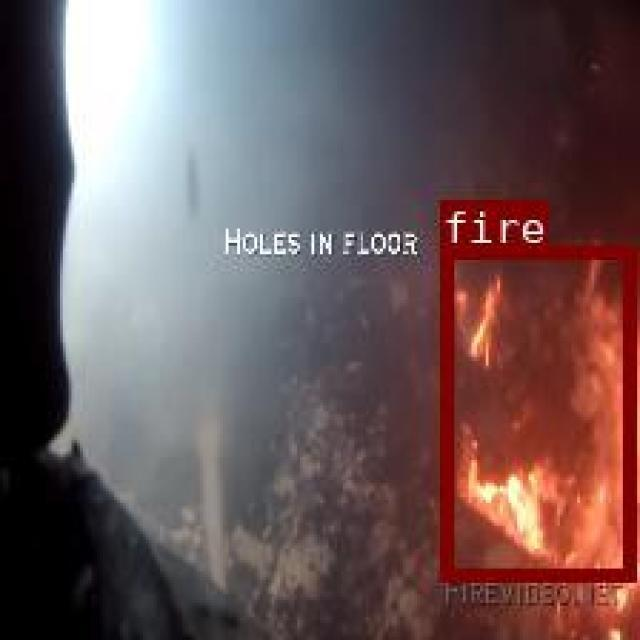fire: (439, 245, 633, 577)
